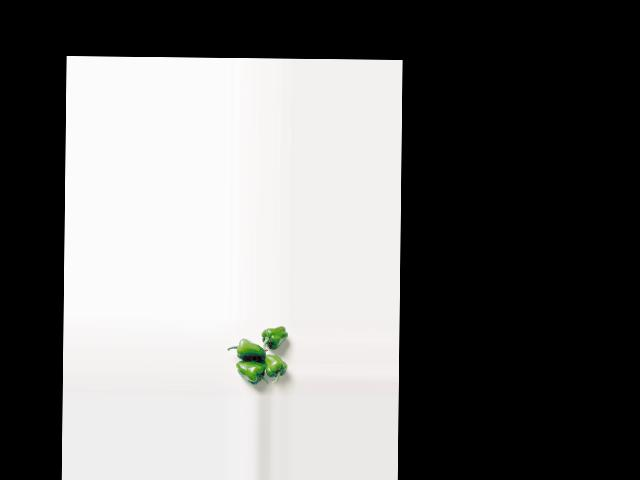bell_pepper: (266, 352, 287, 382)
